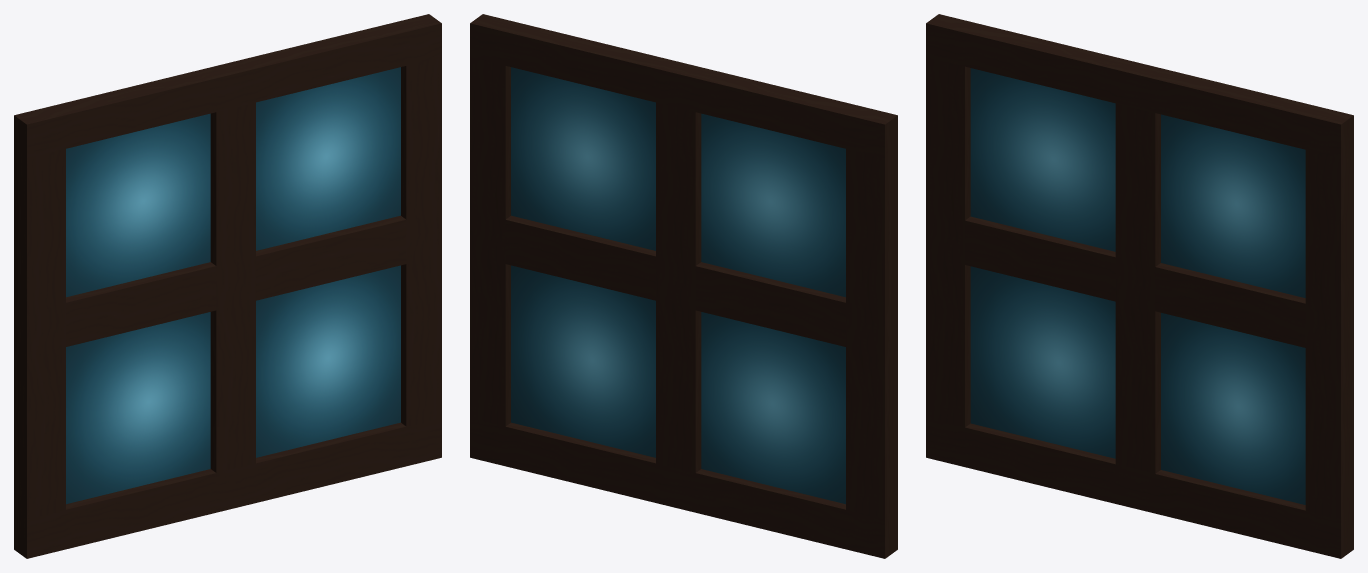
Rendered from Window_Small_C.FBX.
The picture shows the model from 3 angles, left to right: view 1: azimuth 30°, elevation 25°; view 2: azimuth 150°, elevation 25°; view 3: azimuth 330°, elevation 25°; orthographic projection.
Visible parts, largest first — view 1: Window_Square; view 2: Window_Square; view 3: Window_Square.
Part boxes in pixels (<box>): Window_Square: <box>14,14,441,558</box>; Window_Square: <box>470,14,897,558</box>; Window_Square: <box>926,14,1353,558</box>.
Bounding box in the file's own units: 150 × 150 × 8.
